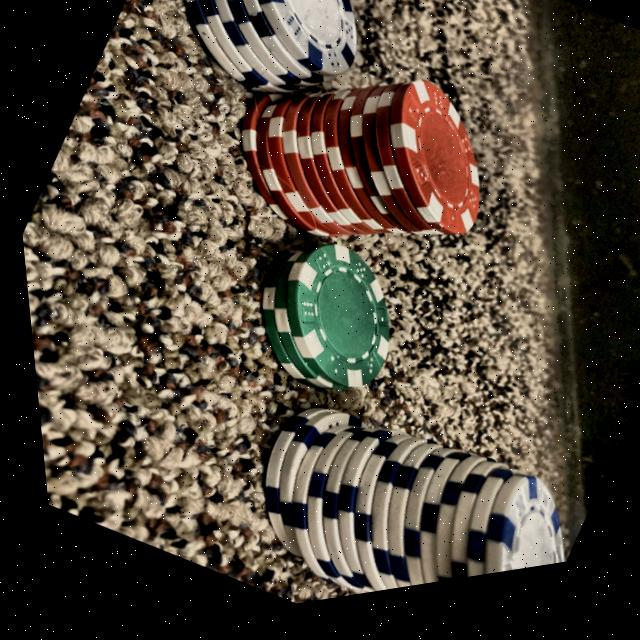Chip: (227, 0, 571, 324), (193, 350, 587, 620), (199, 186, 452, 447), (119, 0, 452, 187)
